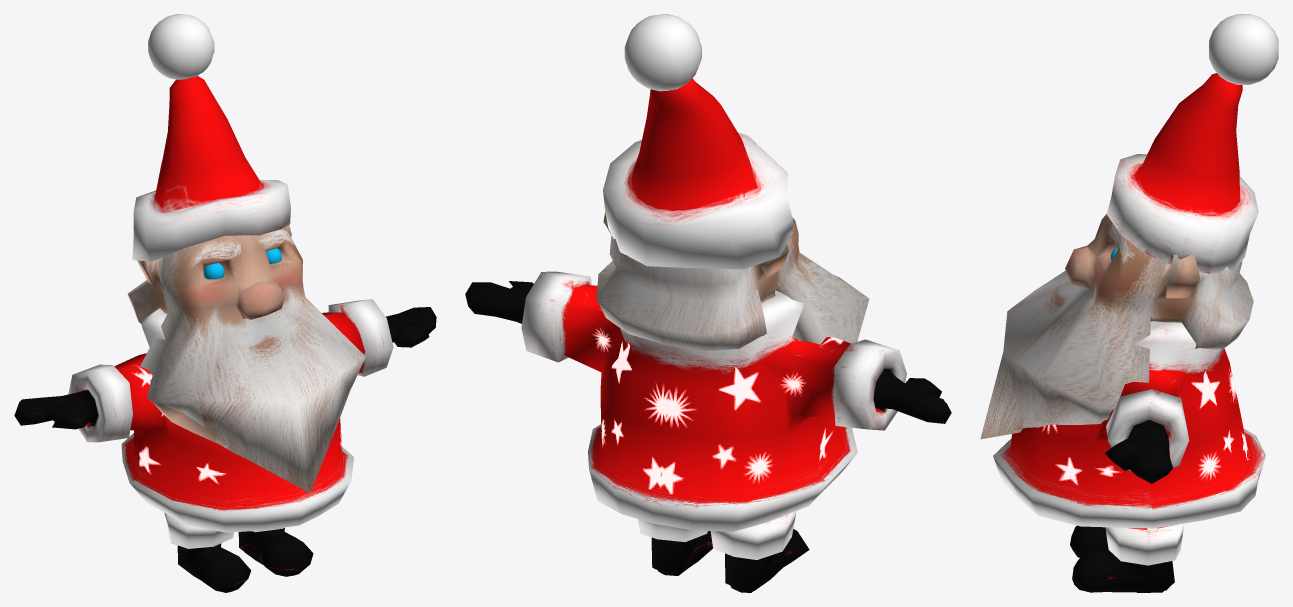
The model's file is claus.dae.
3 views of the same model, side by side, from view 1: azimuth 30°, elevation 25°; view 2: azimuth 150°, elevation 25°; view 3: azimuth 270°, elevation 25° (orthographic). The views are drawn at different scales.
Parts seen in each view (by area): view 1: BABBO, Sfera; view 2: BABBO, Sfera; view 3: BABBO, Sfera.
Part boxes in pixels (x1=…): BABBO: x1=14, y1=76, x2=436, y2=592; Sfera: x1=148, y1=14, x2=214, y2=79; BABBO: x1=465, y1=78, x2=951, y2=592; Sfera: x1=624, y1=14, x2=701, y2=91; BABBO: x1=980, y1=73, x2=1265, y2=592; Sfera: x1=1209, y1=14, x2=1278, y2=84.
Size of what is drawn, in the model's own units: 783 by 913 by 447.
5 materials, 3 textured.
